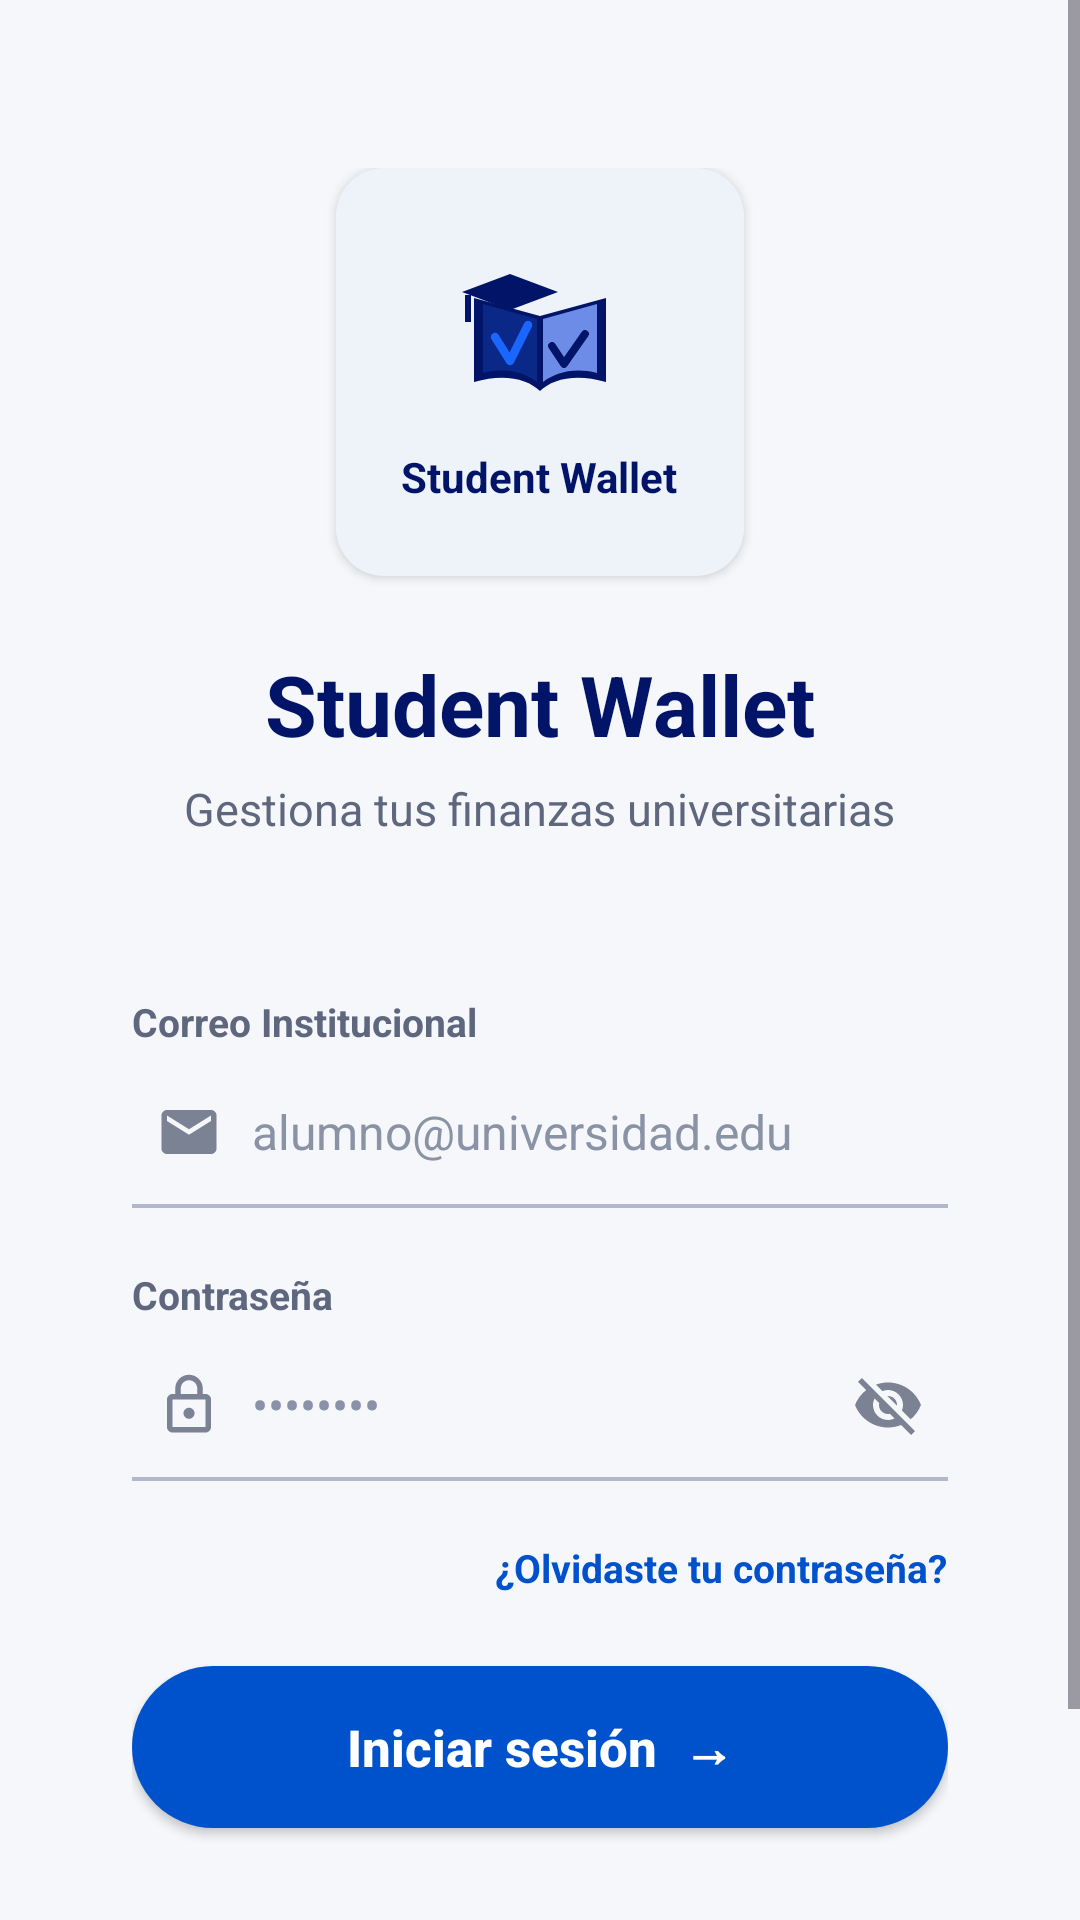

Icon bounding boxes for this 1080 x 1920 phone screenshot, format (x1, y1, x2, y2):
email: (161, 1110, 217, 1154)
lock: (167, 1374, 211, 1433)
Mostrar contraseña: (855, 1378, 921, 1435)
